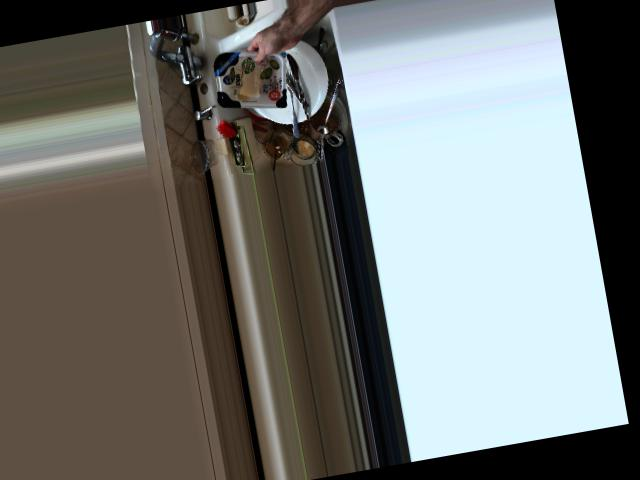cheese: (201, 22, 305, 117)
